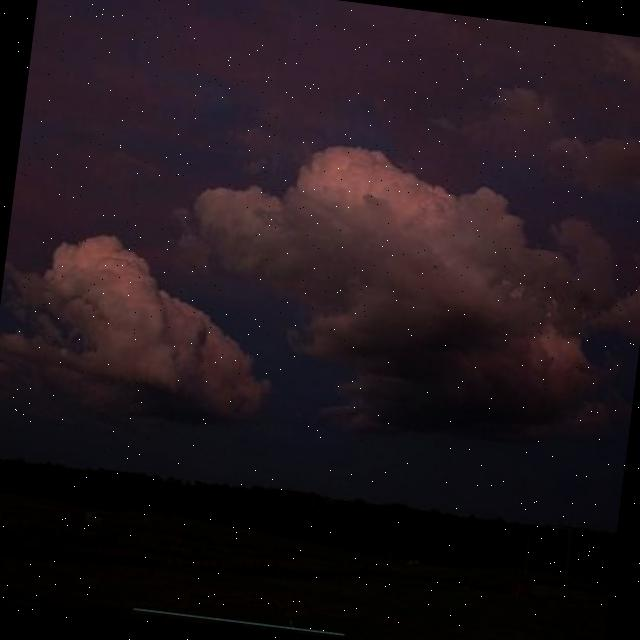As: (133, 121, 640, 469)
